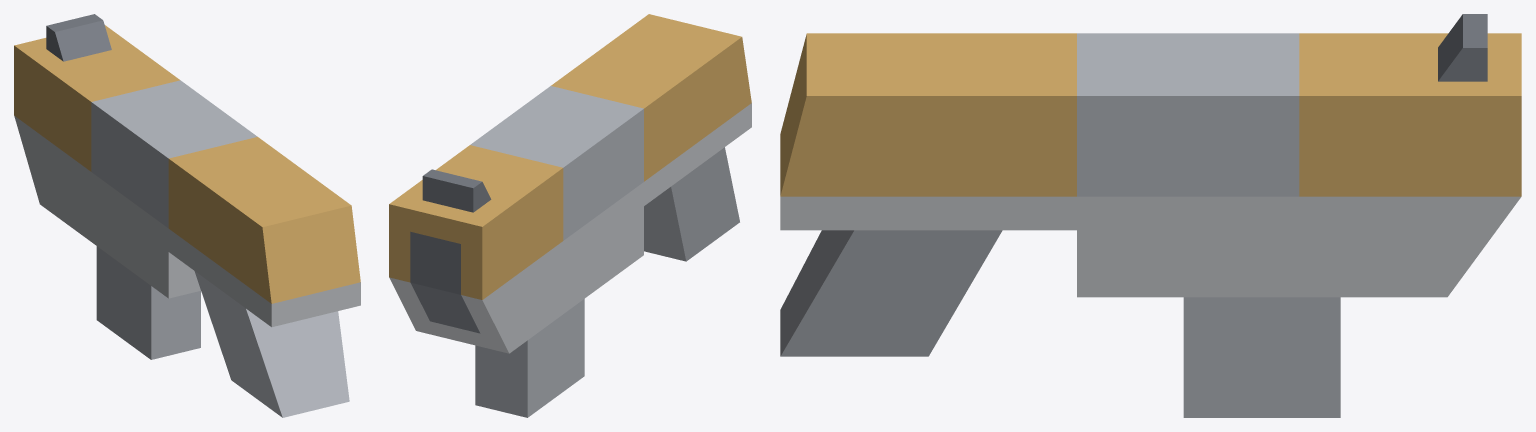
File: weapon_rifle.glb
3 renders of one model, left to right at view 1: azimuth 30°, elevation 25°; view 2: azimuth 150°, elevation 25°; view 3: azimuth 270°, elevation 25°, orthographic. The views are drawn at different scales.
Visible parts, largest first — view 1: weapon_rifle; view 2: weapon_rifle; view 3: weapon_rifle.
Part boxes in pixels (x1=…): weapon_rifle: x1=14, y1=14, x2=360, y2=417; weapon_rifle: x1=389, y1=14, x2=751, y2=417; weapon_rifle: x1=780, y1=14, x2=1521, y2=417.
Size of the model in its own units: 0.1 by 0.275 by 0.5.
